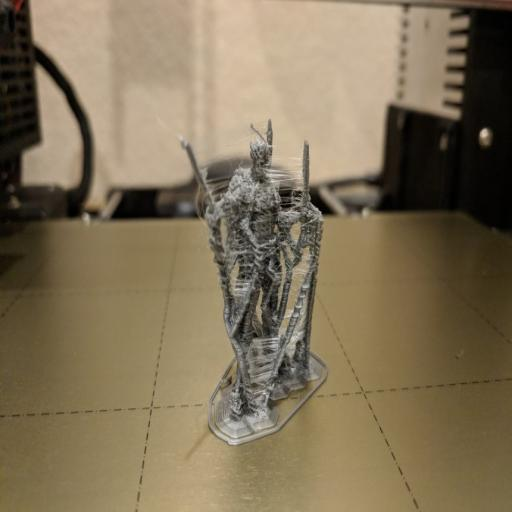stringing: (244, 326, 282, 389), (260, 148, 300, 201), (224, 241, 253, 300), (200, 170, 236, 204)
